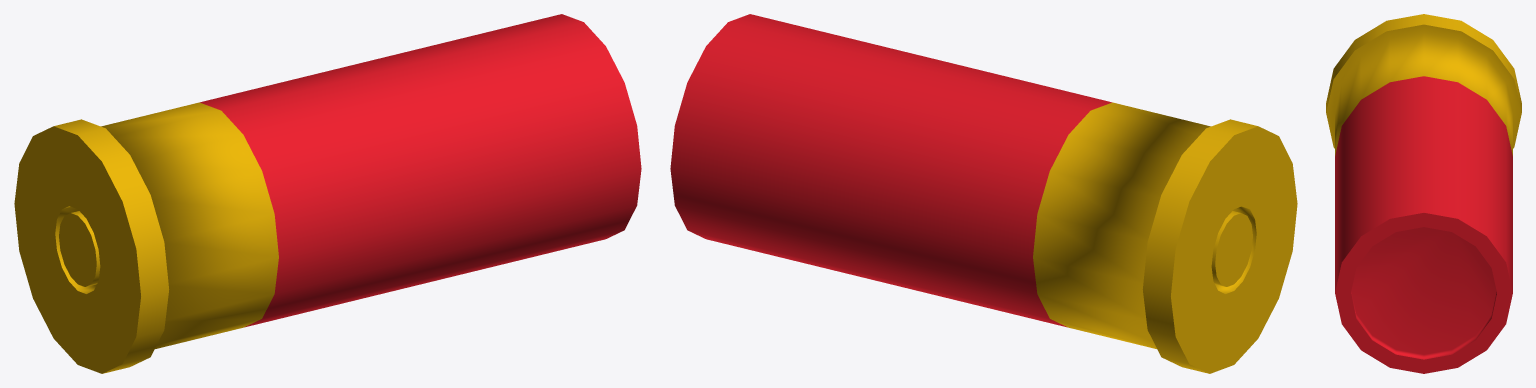
Rendered from Shotgun_Cartridge.fbx.
3 renders of one model, left to right at view 1: azimuth 30°, elevation 25°; view 2: azimuth 150°, elevation 25°; view 3: azimuth 270°, elevation 25°, orthographic. The views are drawn at different scales.
Parts seen in each view (by area): view 1: Cube.022; view 2: Cube.022; view 3: Cube.022.
Part boxes in pixels (bbox=[...]): Cube.022: bbox=[14, 14, 641, 373]; Cube.022: bbox=[670, 14, 1297, 373]; Cube.022: bbox=[1326, 14, 1521, 373].
Bounding box in the file's own units: 3.87 × 1.68 × 1.68.
